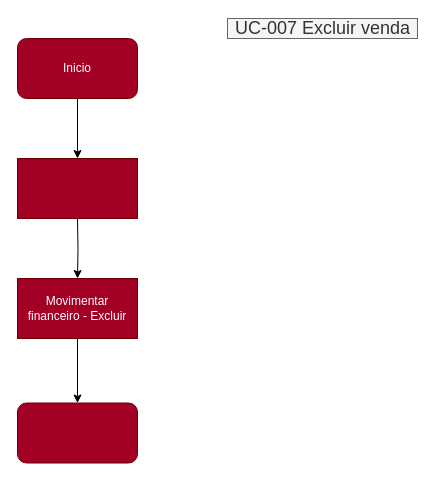
The diagram is 435 pixels wide and 480 high, and some of its shapes have lost their labels. Here are the shapes that lost their labels. From the top down, the centre of each, then its label:
At (77,188): "Excluir venda".
At (77,432): "Fim".
